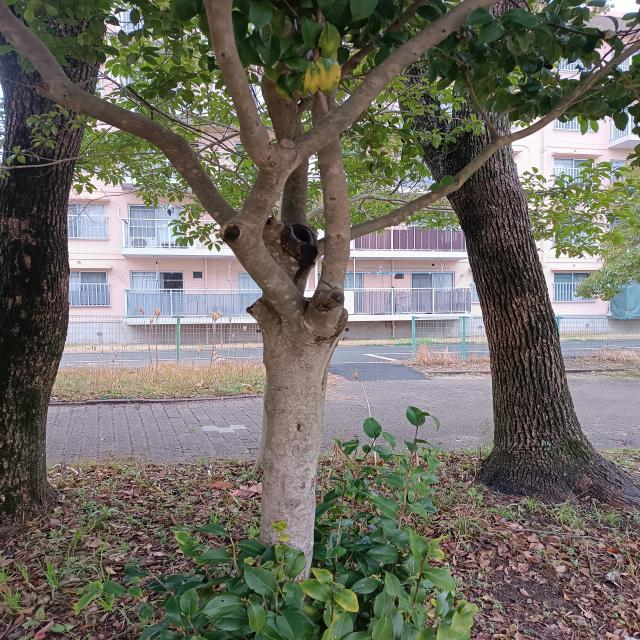Branch: (0, 1, 237, 228), (350, 138, 507, 240), (220, 161, 308, 333), (307, 133, 350, 337), (280, 160, 308, 228)
Twig: (295, 0, 504, 162), (203, 0, 298, 163), (504, 41, 640, 143), (452, 57, 500, 138), (490, 105, 523, 128)
